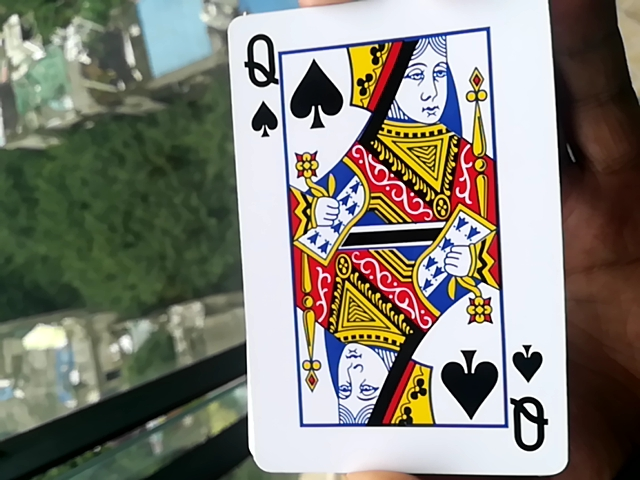ht q: (223, 12, 569, 480)
